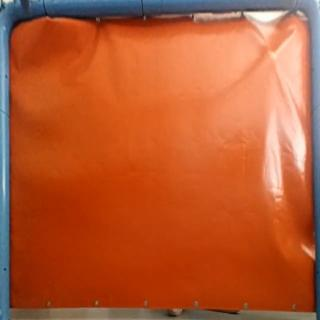Hit-hRxx: (266, 49, 280, 62)
